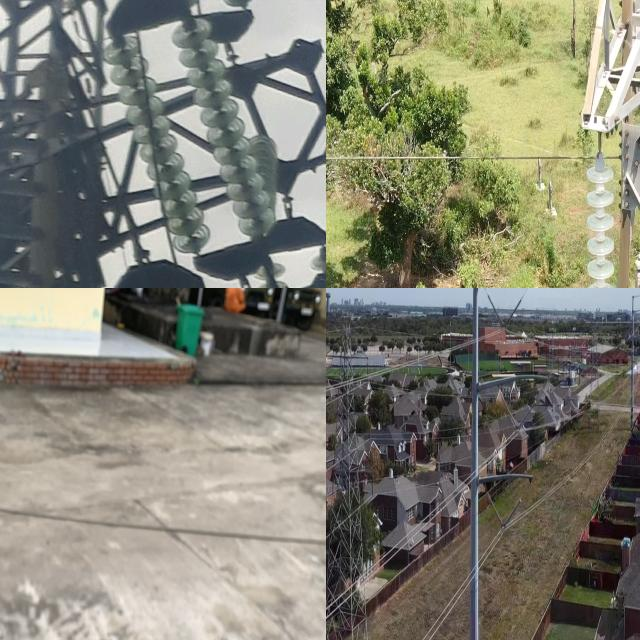杆塔: (0, 0, 326, 288), (326, 307, 376, 640)
正常电缆: (326, 146, 600, 169)
正常绝缘子: (158, 6, 308, 267), (89, 23, 229, 269), (581, 142, 614, 288), (500, 392, 521, 433), (514, 398, 539, 430), (486, 292, 506, 330), (500, 497, 523, 530), (501, 297, 523, 331), (486, 491, 506, 528)
